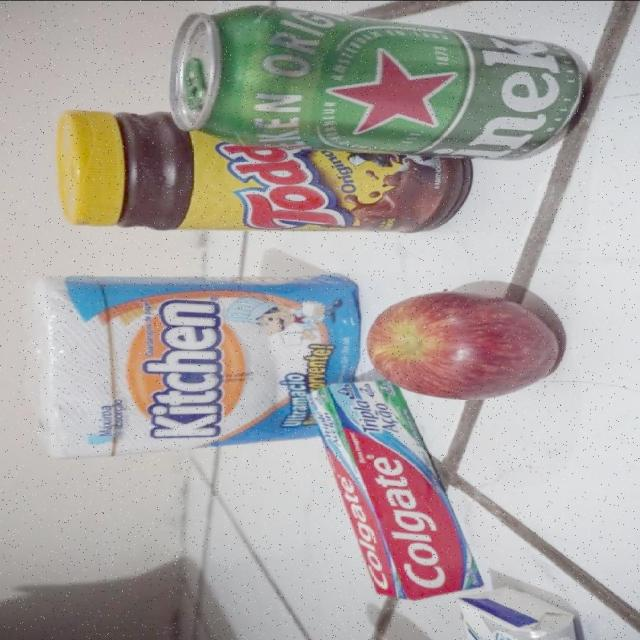Apple: (367, 291, 563, 401)
BeerCan: (167, 5, 596, 166)
Napkin: (20, 273, 362, 459)
Soap: (456, 585, 589, 640)
Toothpaste: (303, 378, 489, 598)
